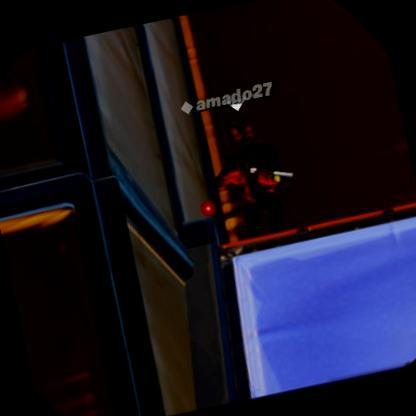person: (203, 120, 292, 242)
